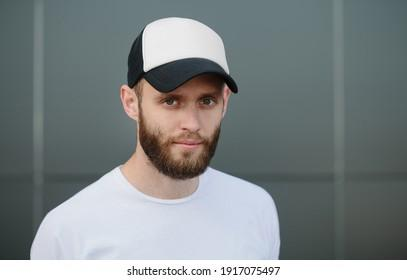cap: (124, 13, 248, 95)
